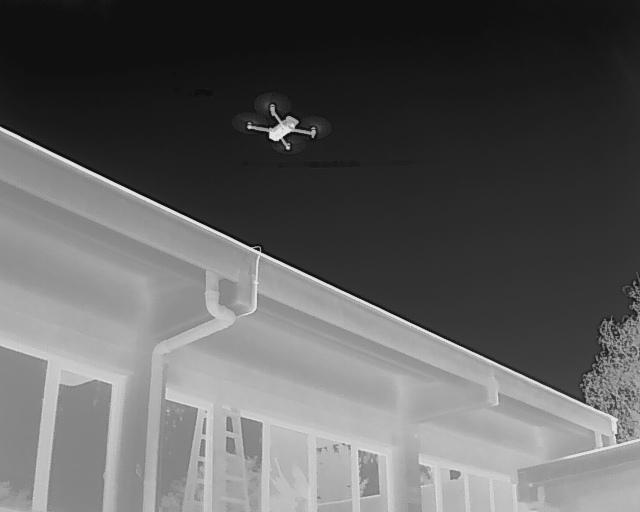drone: (228, 88, 334, 165)
